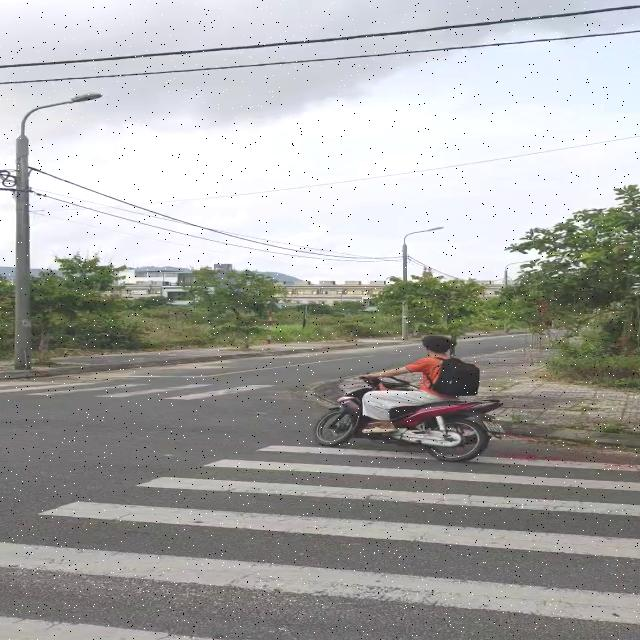no_helmet: (421, 335, 454, 354)
